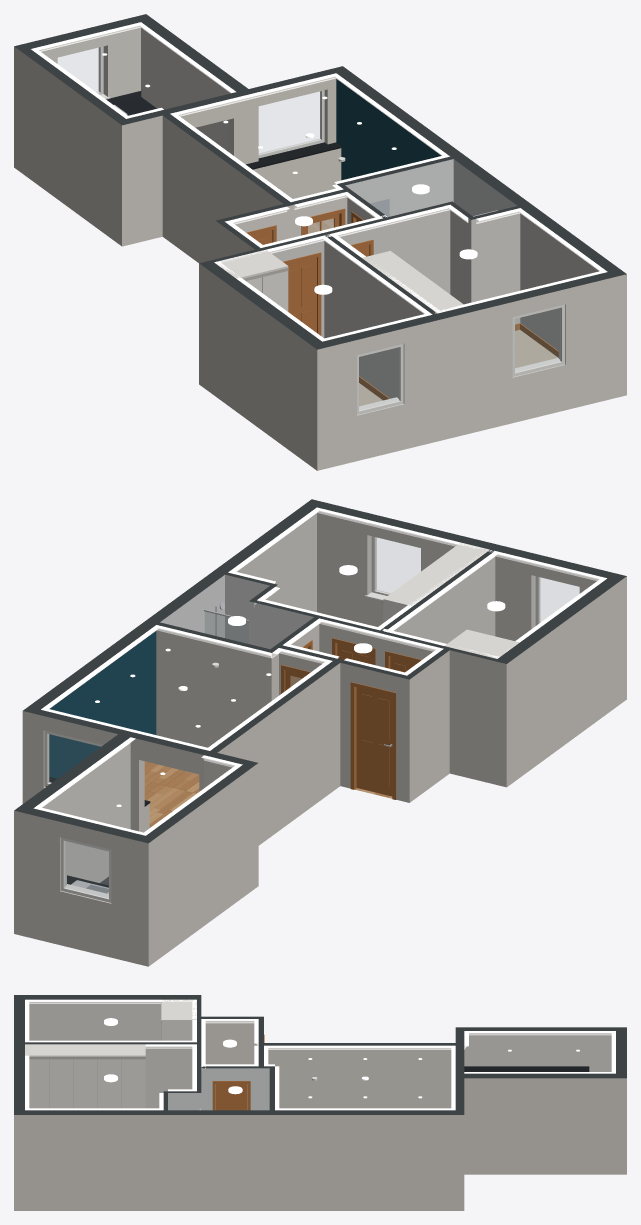
The model's file is flat-empty.glb.
3 views of the same model, one above another, from view 1: azimuth 30°, elevation 25°; view 2: azimuth 150°, elevation 25°; view 3: azimuth 270°, elevation 25° (orthographic). The views are drawn at different scales.
Visible parts, largest first — view 1: Wall bedMS, Wall bedSW, Wall bedSS, Wall kWest, Window (×4), Wall west, Wall bedPart, Wall bedME, Wall east, Wall kSouth, Wall kEast, Wall north (+19 smaller); view 2: Wall bedSW, Wall kWest, Wall kNorth, Wall west, Wall southE, Wall east, Wall bedMS, Wall kEast, Window (×4), Wall bedSN, Wall north, Wall bedSS (+18 smaller); view 3: Wall east, Wall kEast, Wall bedME, Wall west, Wall showerE, Built-in wardrobe (×2), Wall bedSW, Wall kWest, Wall bedPart, Wall hallW, Wall north, Wall showerW (+11 smaller).
Boxes of the visible parts, bbox=[...] form: Wall bedMS: bbox=[435, 269, 626, 440]; Wall bedSW: bbox=[199, 260, 329, 470]; Wall bedSS: bbox=[310, 313, 442, 470]; Wall kWest: bbox=[14, 44, 130, 242]; Window (×4): bbox=[58, 46, 564, 414]; Wall west: bbox=[162, 113, 294, 263]; Wall bedPart: bbox=[320, 234, 441, 400]; Wall bedME: bbox=[516, 205, 626, 397]; Wall east: bbox=[331, 66, 462, 180]; Wall kSouth: bbox=[116, 107, 169, 246]; Wall kEast: bbox=[137, 15, 247, 151]; Wall north: bbox=[165, 66, 347, 164]; Wall bedSW: bbox=[498, 574, 626, 787]; Wall kWest: bbox=[138, 763, 252, 966]; Wall kNorth: bbox=[14, 806, 151, 966]; Wall west: bbox=[208, 660, 340, 845]; Wall southE: bbox=[144, 619, 275, 747]; Wall east: bbox=[22, 619, 160, 801]; Wall bedMS: bbox=[305, 500, 499, 626]; Wall kEast: bbox=[14, 734, 135, 936]; Window (×4): bbox=[44, 536, 578, 902]; Wall bedSN: bbox=[444, 647, 509, 786]; Wall north: bbox=[22, 706, 210, 832]; Wall bedSS: bbox=[491, 545, 626, 704]; Wall east: bbox=[269, 1108, 464, 1210]; Wall kEast: bbox=[464, 1072, 626, 1174]; Wall bedME: bbox=[14, 1108, 163, 1210]; Wall west: bbox=[264, 1043, 455, 1108]; Wall showerE: bbox=[163, 1110, 269, 1210]; Built-in wardrobe (×2): bbox=[25, 999, 196, 1108]; Wall bedSW: bbox=[14, 995, 201, 1040]; Wall kWest: bbox=[464, 1027, 626, 1071]; Wall bedPart: bbox=[25, 1040, 196, 1108]; Wall hallW: bbox=[201, 1016, 258, 1109]; Wall north: bbox=[451, 1045, 464, 1210]; Wall showerW: bbox=[201, 1064, 263, 1110].
Bounding box in the file's own units: 6.42 × 2.4 × 13.88.
Materials: 37 (3 with a texture image).
